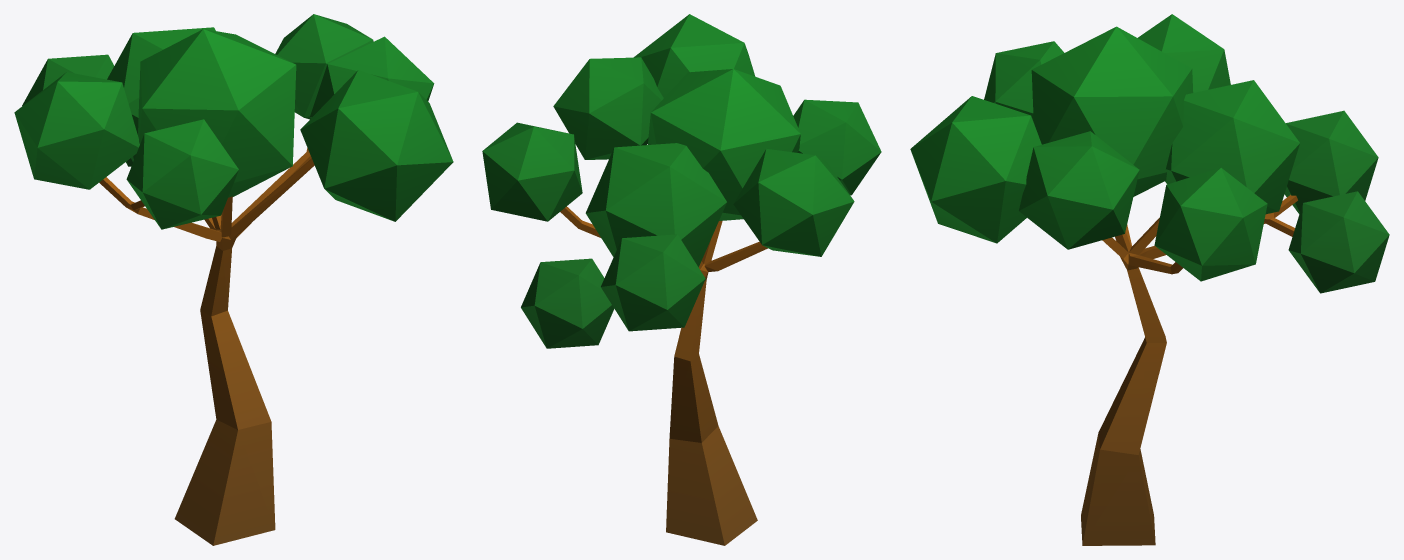
Rendered from Tree_3.fbx.
3 views of the same model, side by side, from view 1: azimuth 30°, elevation 25°; view 2: azimuth 150°, elevation 25°; view 3: azimuth 270°, elevation 25° (orthographic). The views are drawn at different scales.
Parts seen in each view (by area): view 1: Tree_3; view 2: Tree_3; view 3: Tree_3.
Part boxes in pixels (<box>): Tree_3: <box>14,14,453,545</box>; Tree_3: <box>482,14,881,545</box>; Tree_3: <box>910,14,1389,545</box>.
Bounding box in the file's own units: 629 × 818 × 720.
